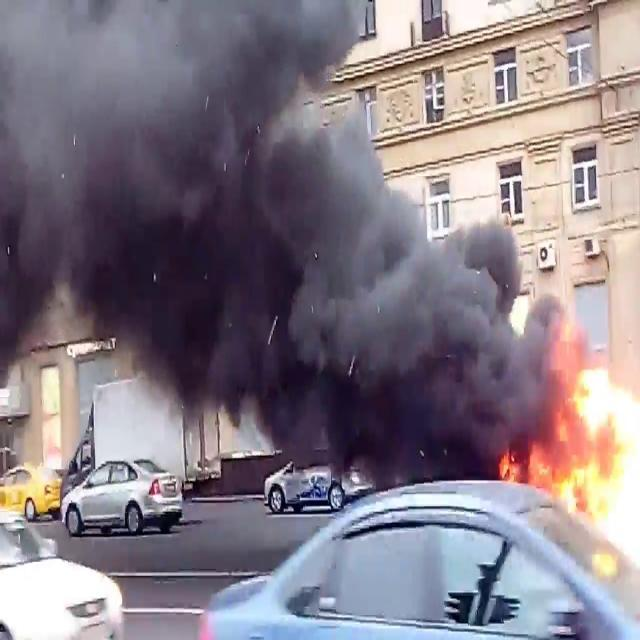Fire: (538, 348, 640, 576)
Smoke: (0, 0, 565, 470)
